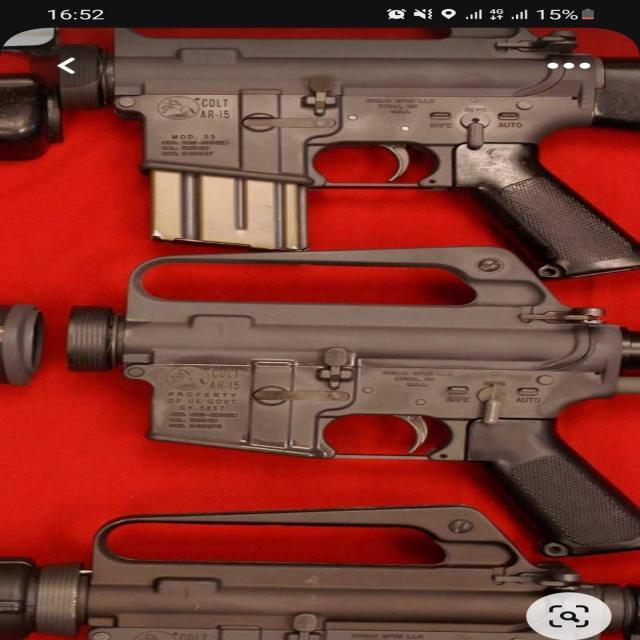m16: (84, 244, 634, 503)
